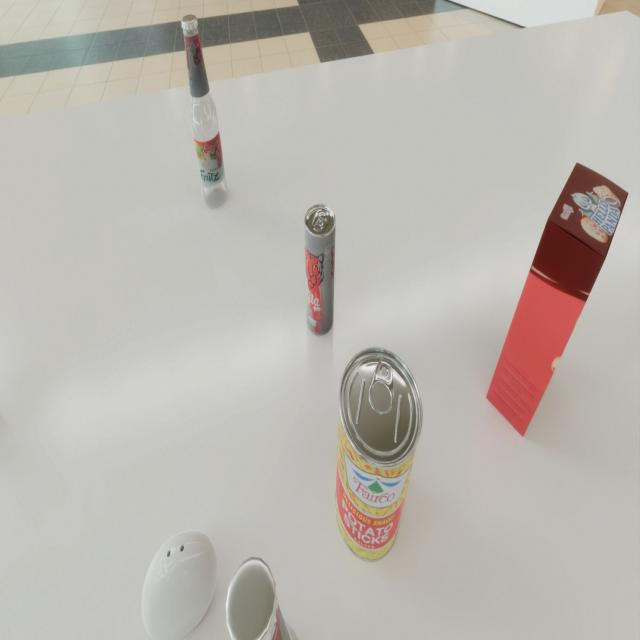Bottle: (181, 15, 228, 208)
HelloPanda: (486, 162, 629, 436)
Potato_sticks: (335, 347, 423, 562)
Rita_zero_sugar: (304, 204, 336, 336)
Salt: (142, 530, 218, 640)
